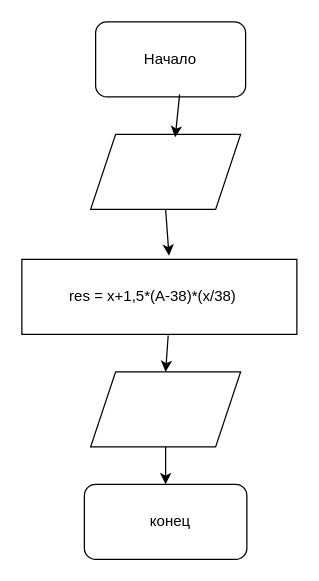
Some shapes in this 319 by 581 pixel diagram are drawn without their labels. The centre of each missing label's shape, as x and y in pixels:
"int x, A" belongs at (165,171).
"rеs" belongs at (165,409).
